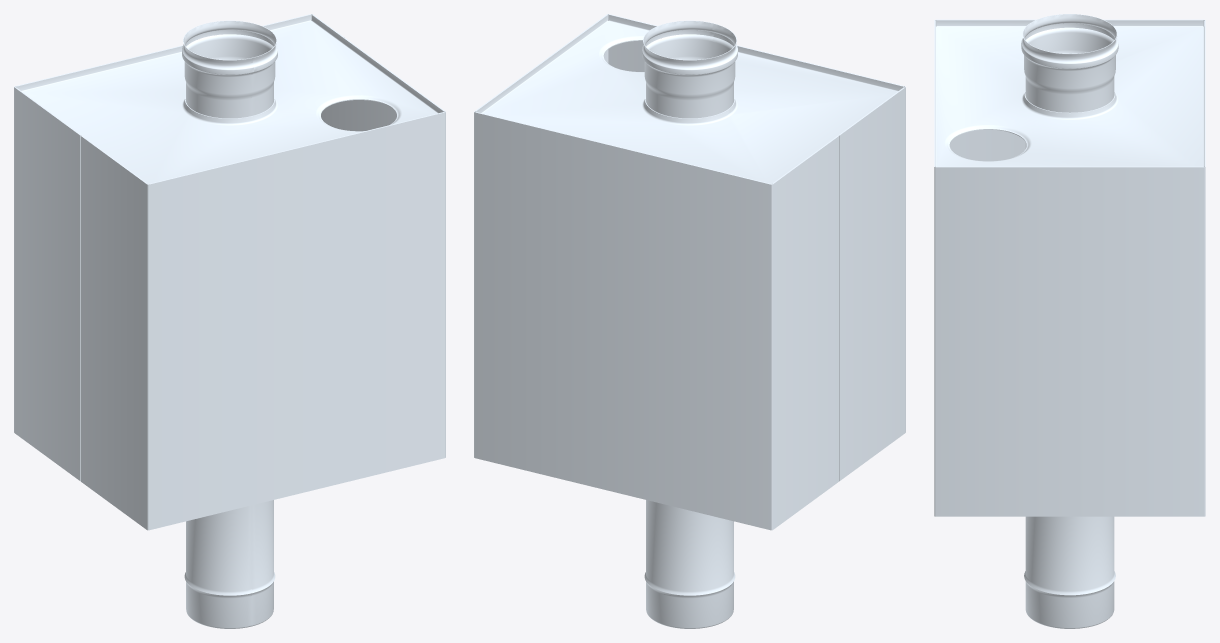
The model's file is buk.glb.
The picture shows the model from 3 angles, left to right: view 1: azimuth 30°, elevation 25°; view 2: azimuth 150°, elevation 25°; view 3: azimuth 270°, elevation 25°; orthographic projection.
Parts seen in each view (by area): view 1: f07.200-73 СБ _ Бак прямоугольный на тру; view 2: f07.200-73 СБ _ Бак прямоугольный на тру; view 3: f07.200-73 СБ _ Бак прямоугольный на тру.
Boxes of the visible parts, bbox=[...] form: f07.200-73 СБ _ Бак прямоугольный на тру: bbox=[14, 14, 445, 628]; f07.200-73 СБ _ Бак прямоугольный на тру: bbox=[474, 14, 905, 628]; f07.200-73 СБ _ Бак прямоугольный на тру: bbox=[934, 14, 1205, 628].
Size of the model in its own units: 0.3558 by 0.6494 by 0.2771.
